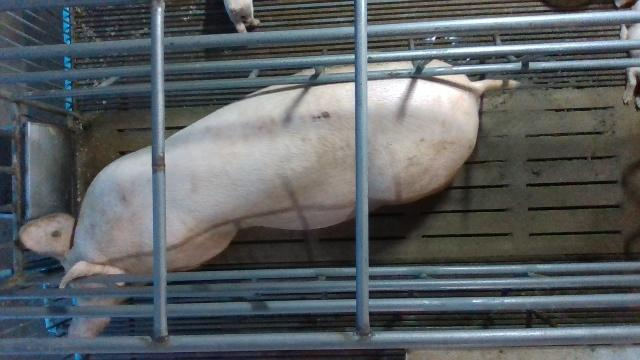sow-sit: (19, 58, 522, 338)
